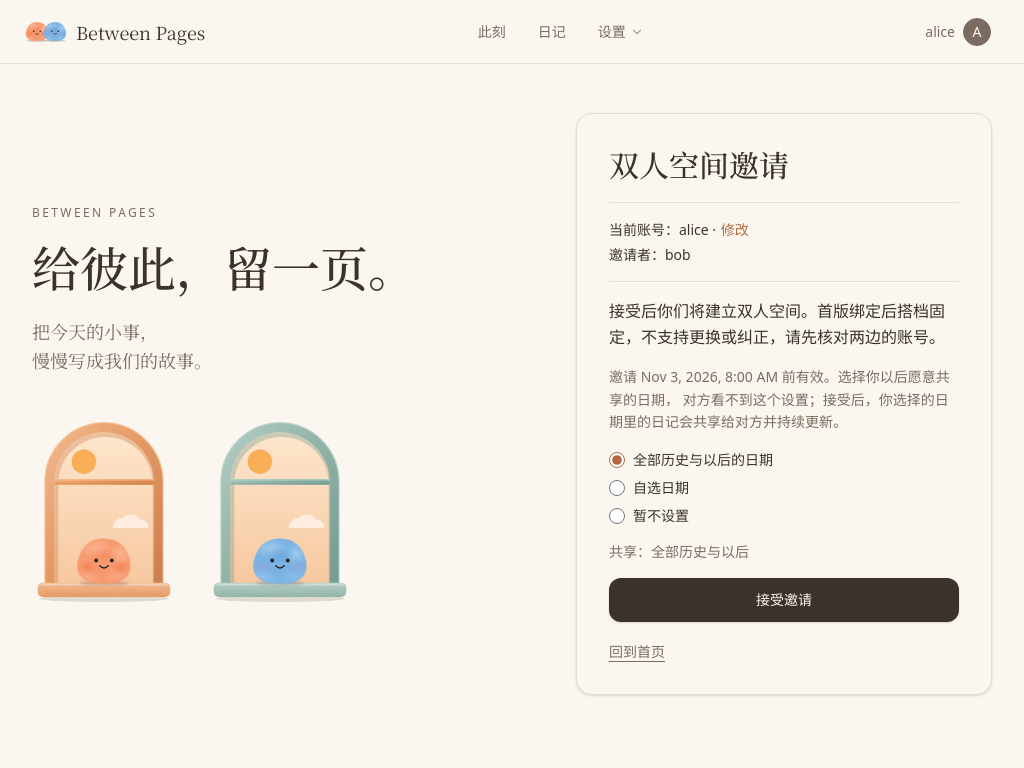
Test: JoinPage › [adr:display-name#1] renames the current account beside it and stays on the invitation
The width and height of the screenshot is (1024, 768).
Click the button with aria-label "修改名字 alice".
click(735, 230)  # box [720,219,750,241]
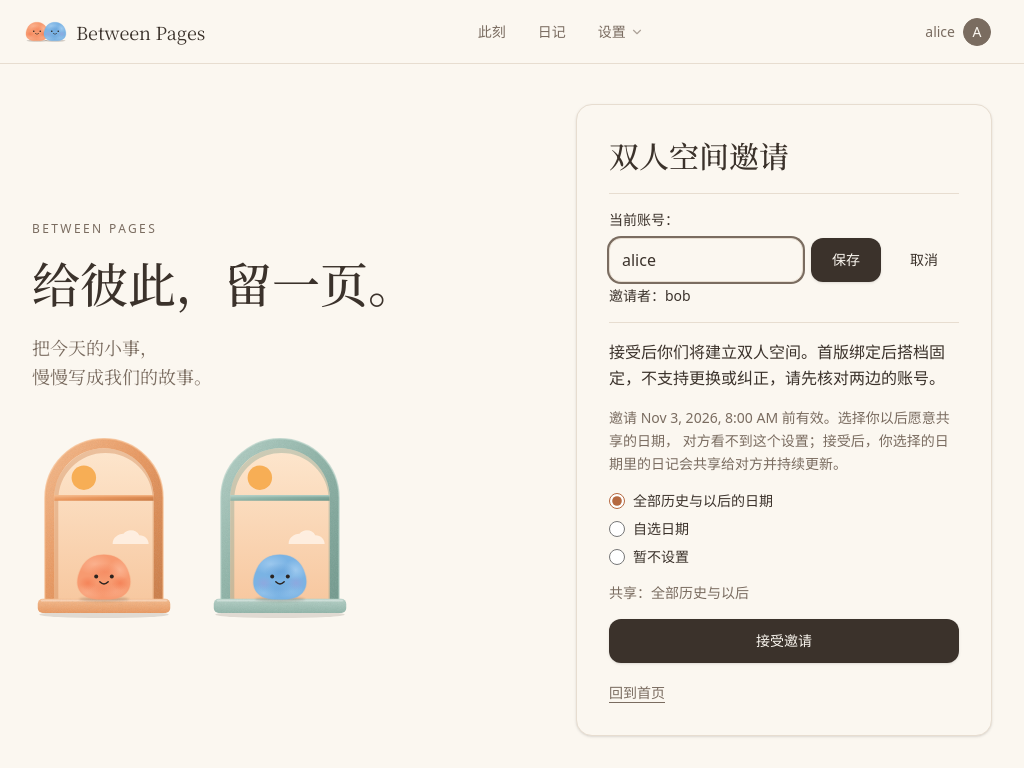
Replace the text in the field named "名字" with "小雨" at {"x": 706, "y": 260}, box [609,238,803,282]
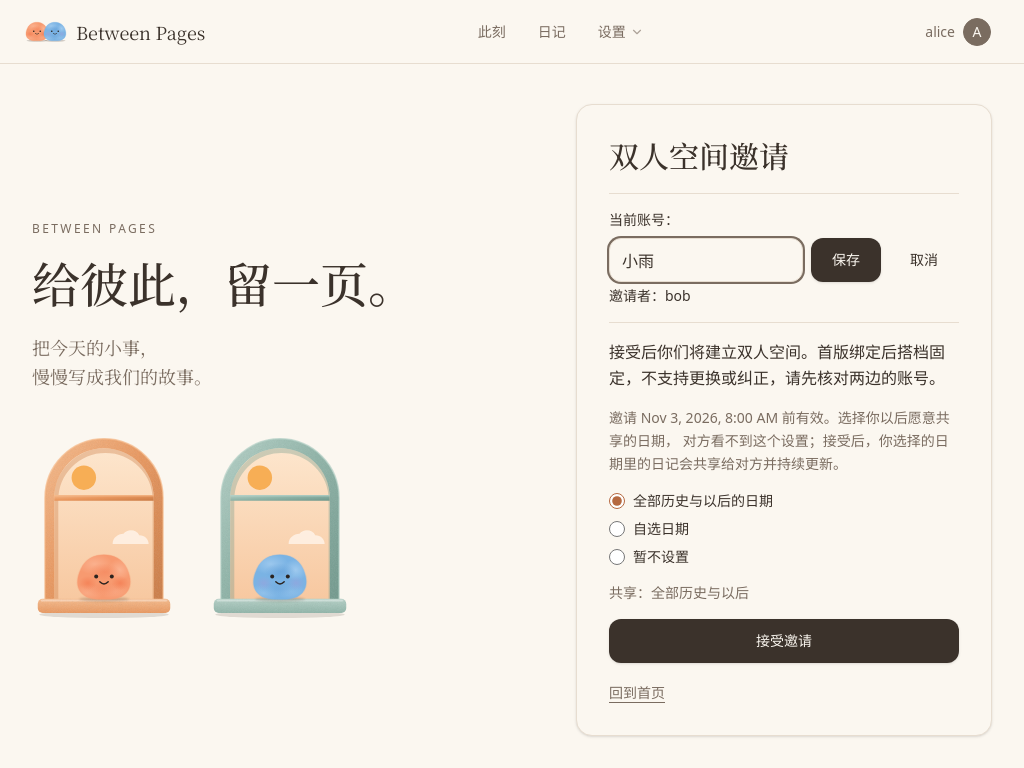
Click the button "保存".
click(846, 260)  # box [811,238,881,282]
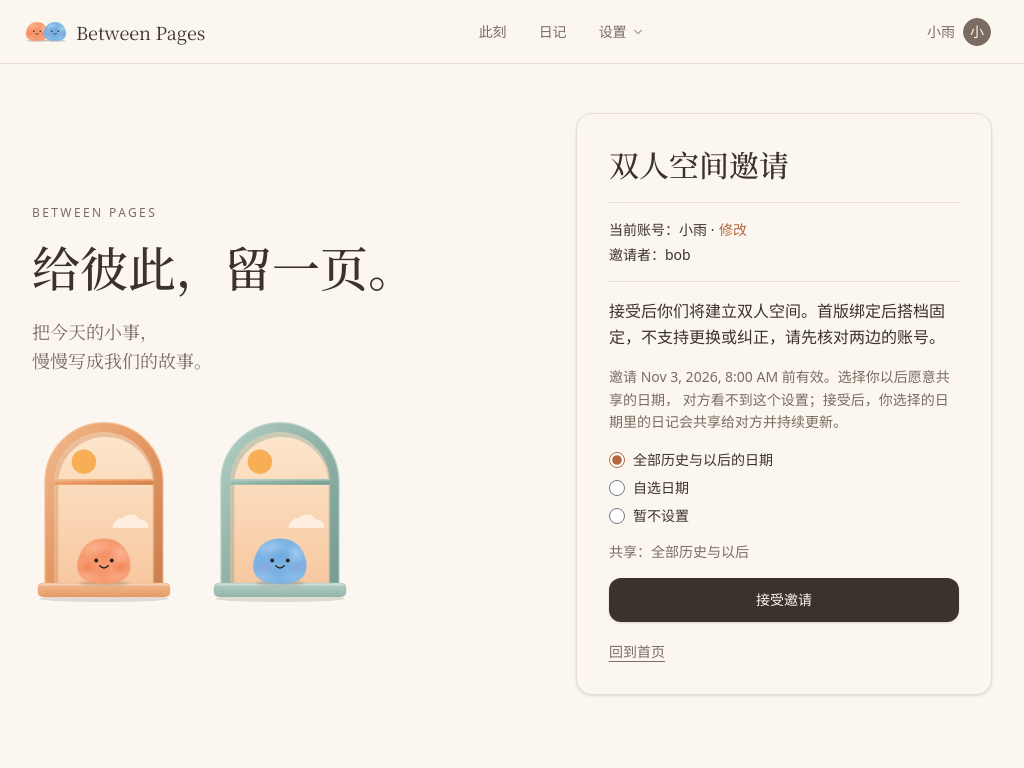
Expected: the text "bob" is shown, [665,245,691,264]
Result: the button with aria-label "修改名字 小雨" is shown at [718,219,748,241]
